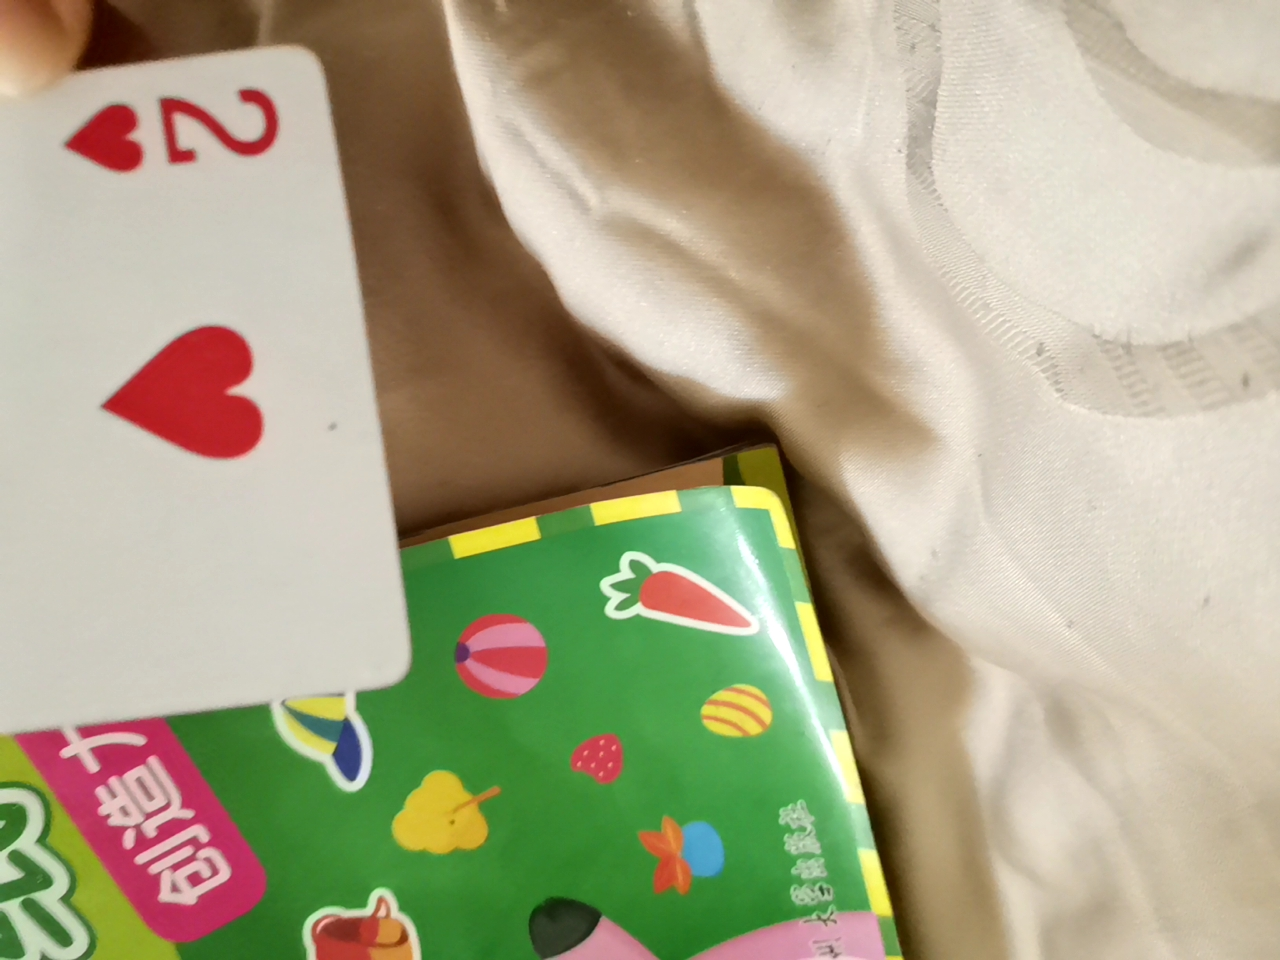hx 2: (0, 61, 413, 729)
